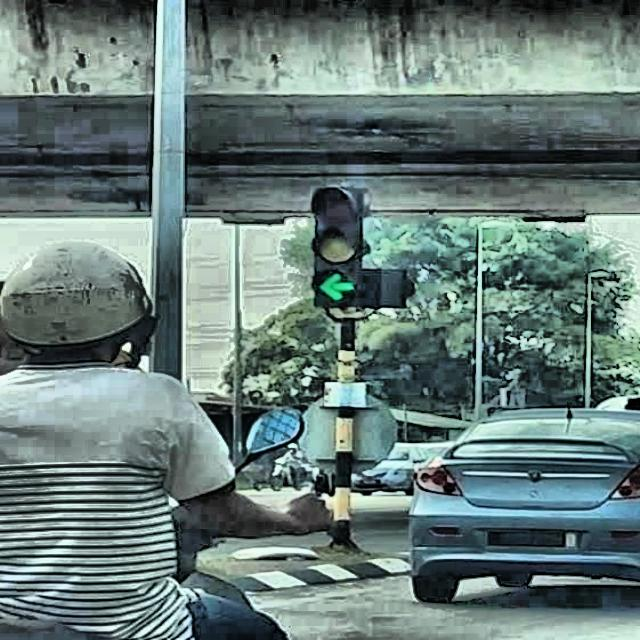green: (310, 185, 362, 308)
